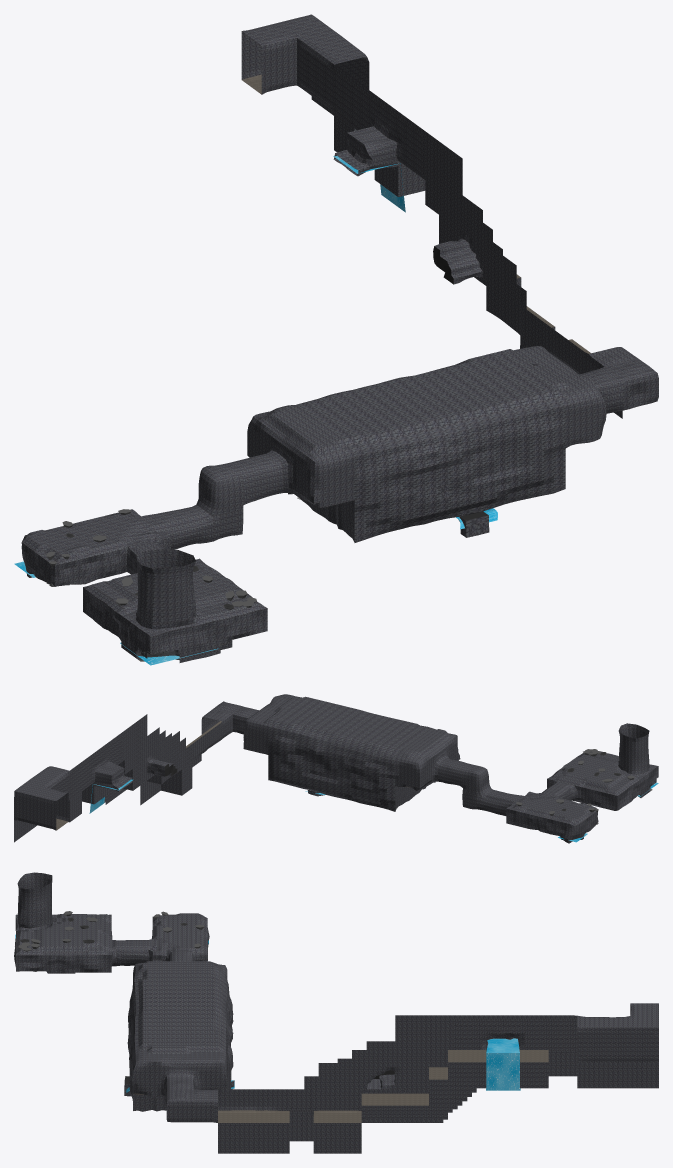
The model's file is Mapa 1.glb.
3 renders of one model, top to bottom at view 1: azimuth 30°, elevation 25°; view 2: azimuth 150°, elevation 25°; view 3: azimuth 270°, elevation 25°, orthographic. The views are drawn at different scales.
Visible parts, largest first — view 1: p1; view 2: p1; view 3: p1, Agua 4.
Boxes of the visible parts, left/top/right/bottom form: p1: left=21, top=14, right=658, bottom=662; p1: left=14, top=694, right=658, bottom=843; p1: left=14, top=872, right=658, bottom=1153; Agua 4: left=486, top=1038, right=520, bottom=1090.
Size of what is drawn, in the model's own units: 105 by 31.75 by 135.
Materials: 14 (13 with a texture image).
